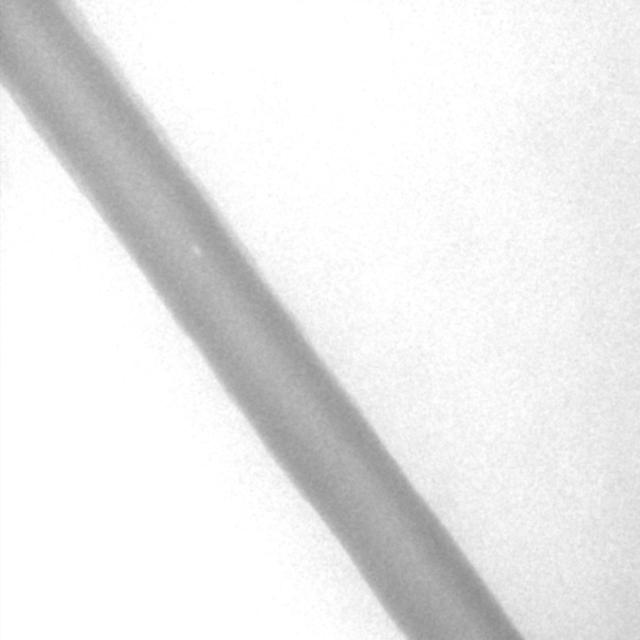air hole: (190, 243, 202, 259)
